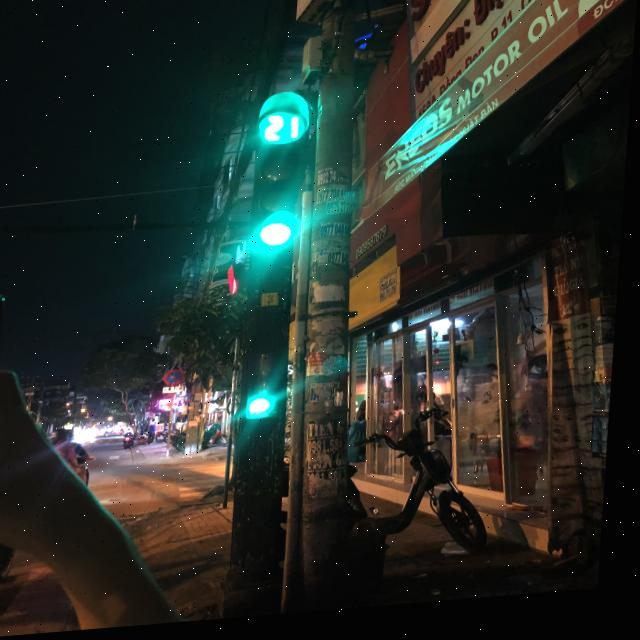Green: (251, 150, 308, 261), (241, 347, 295, 429)
